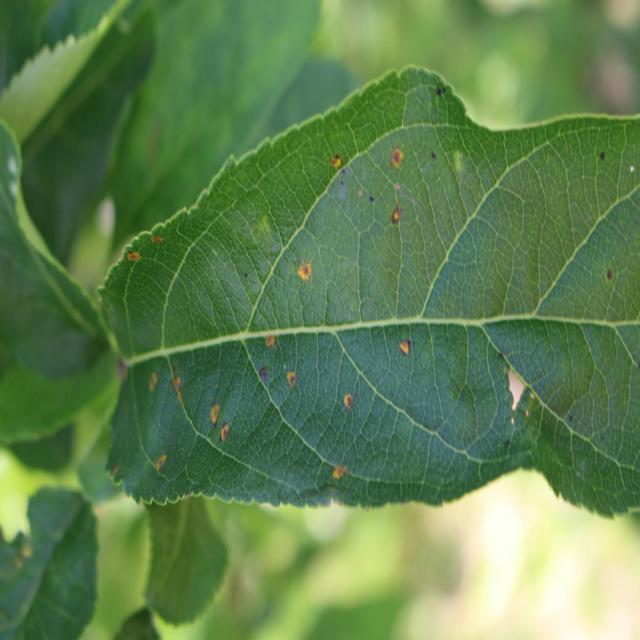Rust: (136, 214, 178, 250), (214, 420, 248, 460), (398, 326, 425, 372), (292, 256, 320, 299), (338, 380, 366, 417), (327, 453, 348, 497), (276, 362, 301, 396), (384, 195, 404, 236), (147, 356, 161, 411), (126, 241, 148, 275), (386, 139, 406, 176), (207, 391, 221, 435), (330, 147, 346, 179), (170, 367, 185, 399), (260, 327, 276, 354), (150, 452, 168, 475)
